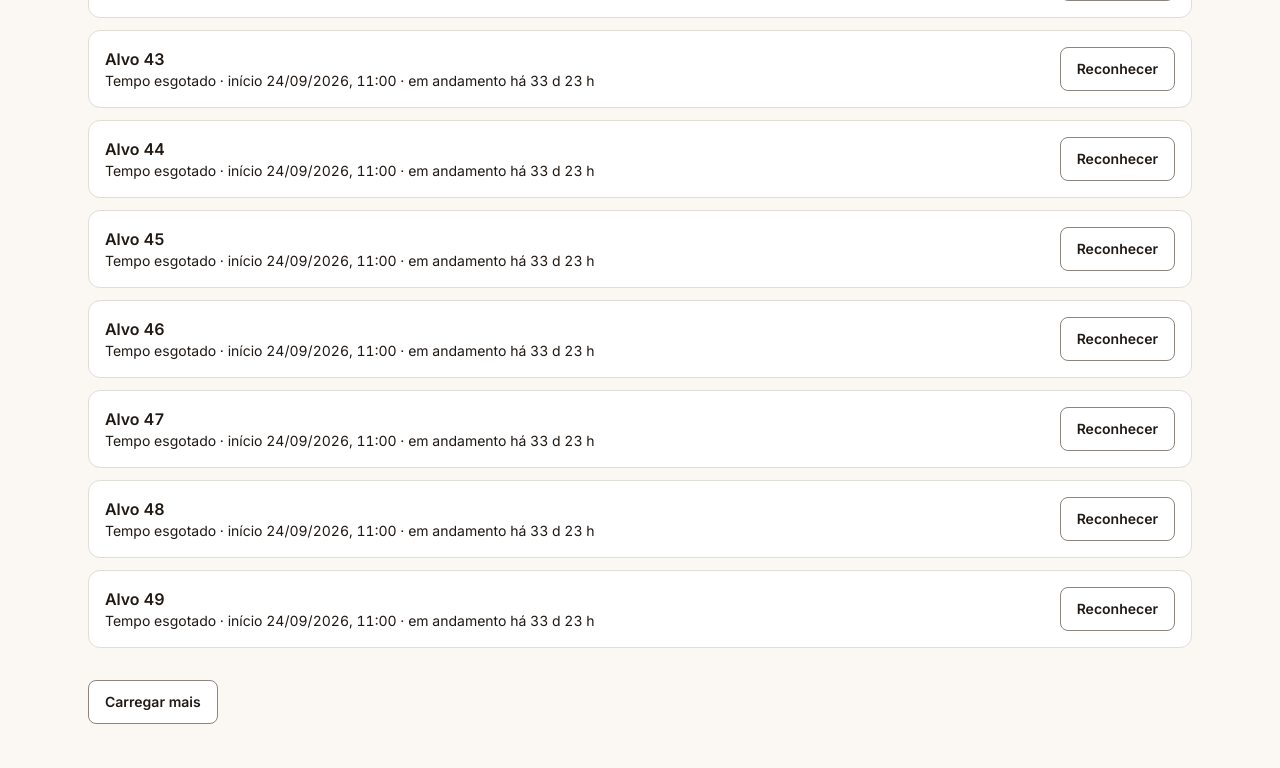
Test: incidentes › "Carregar mais" segue o next_cursor
The width and height of the screenshot is (1280, 768).
(page scrolled)
Step 1. Click the button "Carregar mais" → (153, 702), box [88,680,218,724]
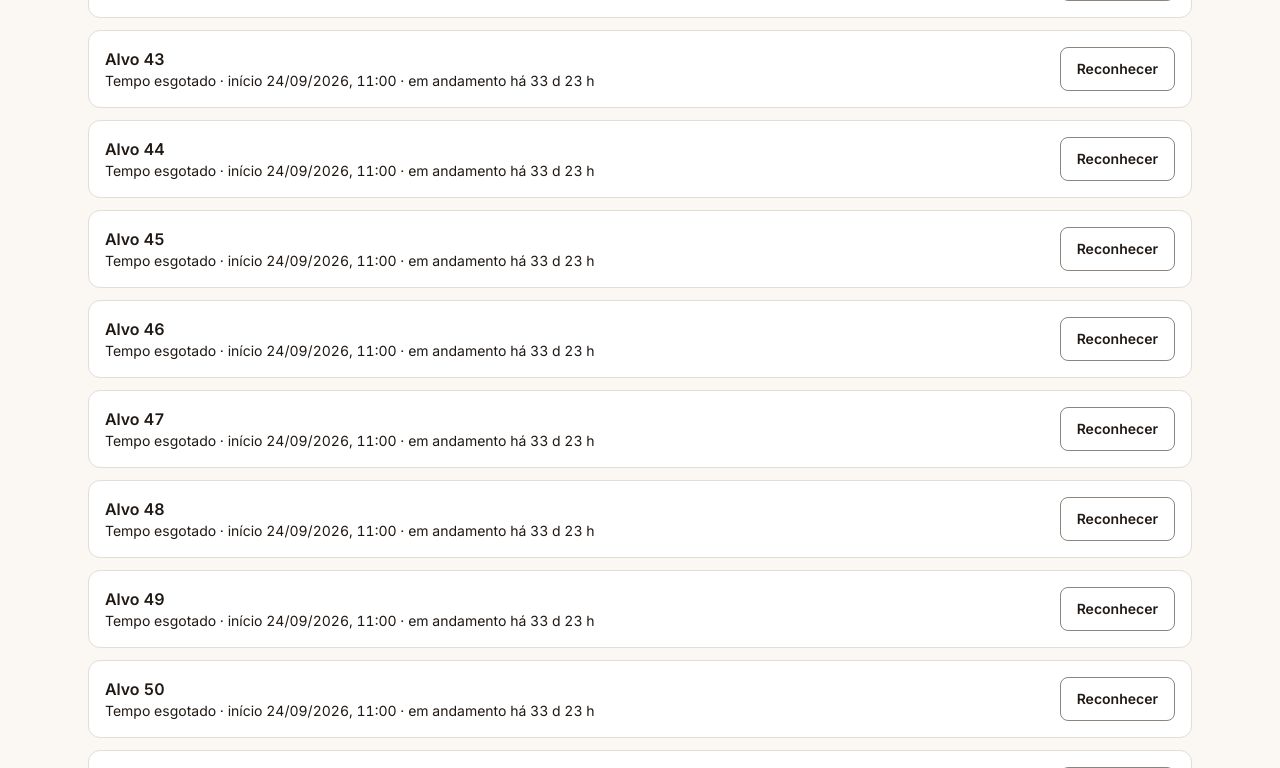
Expected: the button "Carregar mais" is gone
